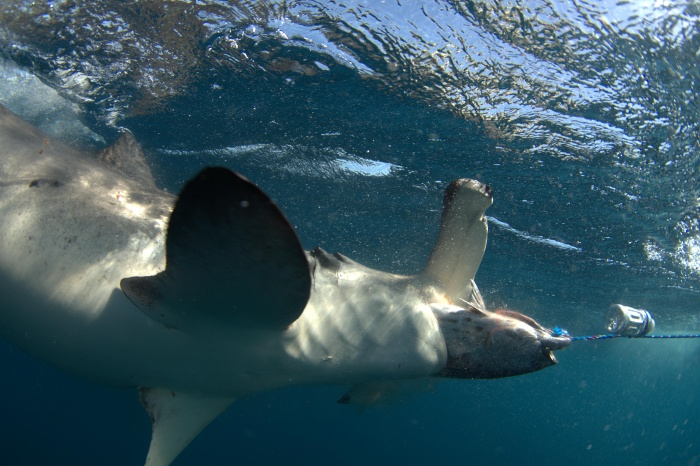Hammer: (1, 74, 546, 450)
